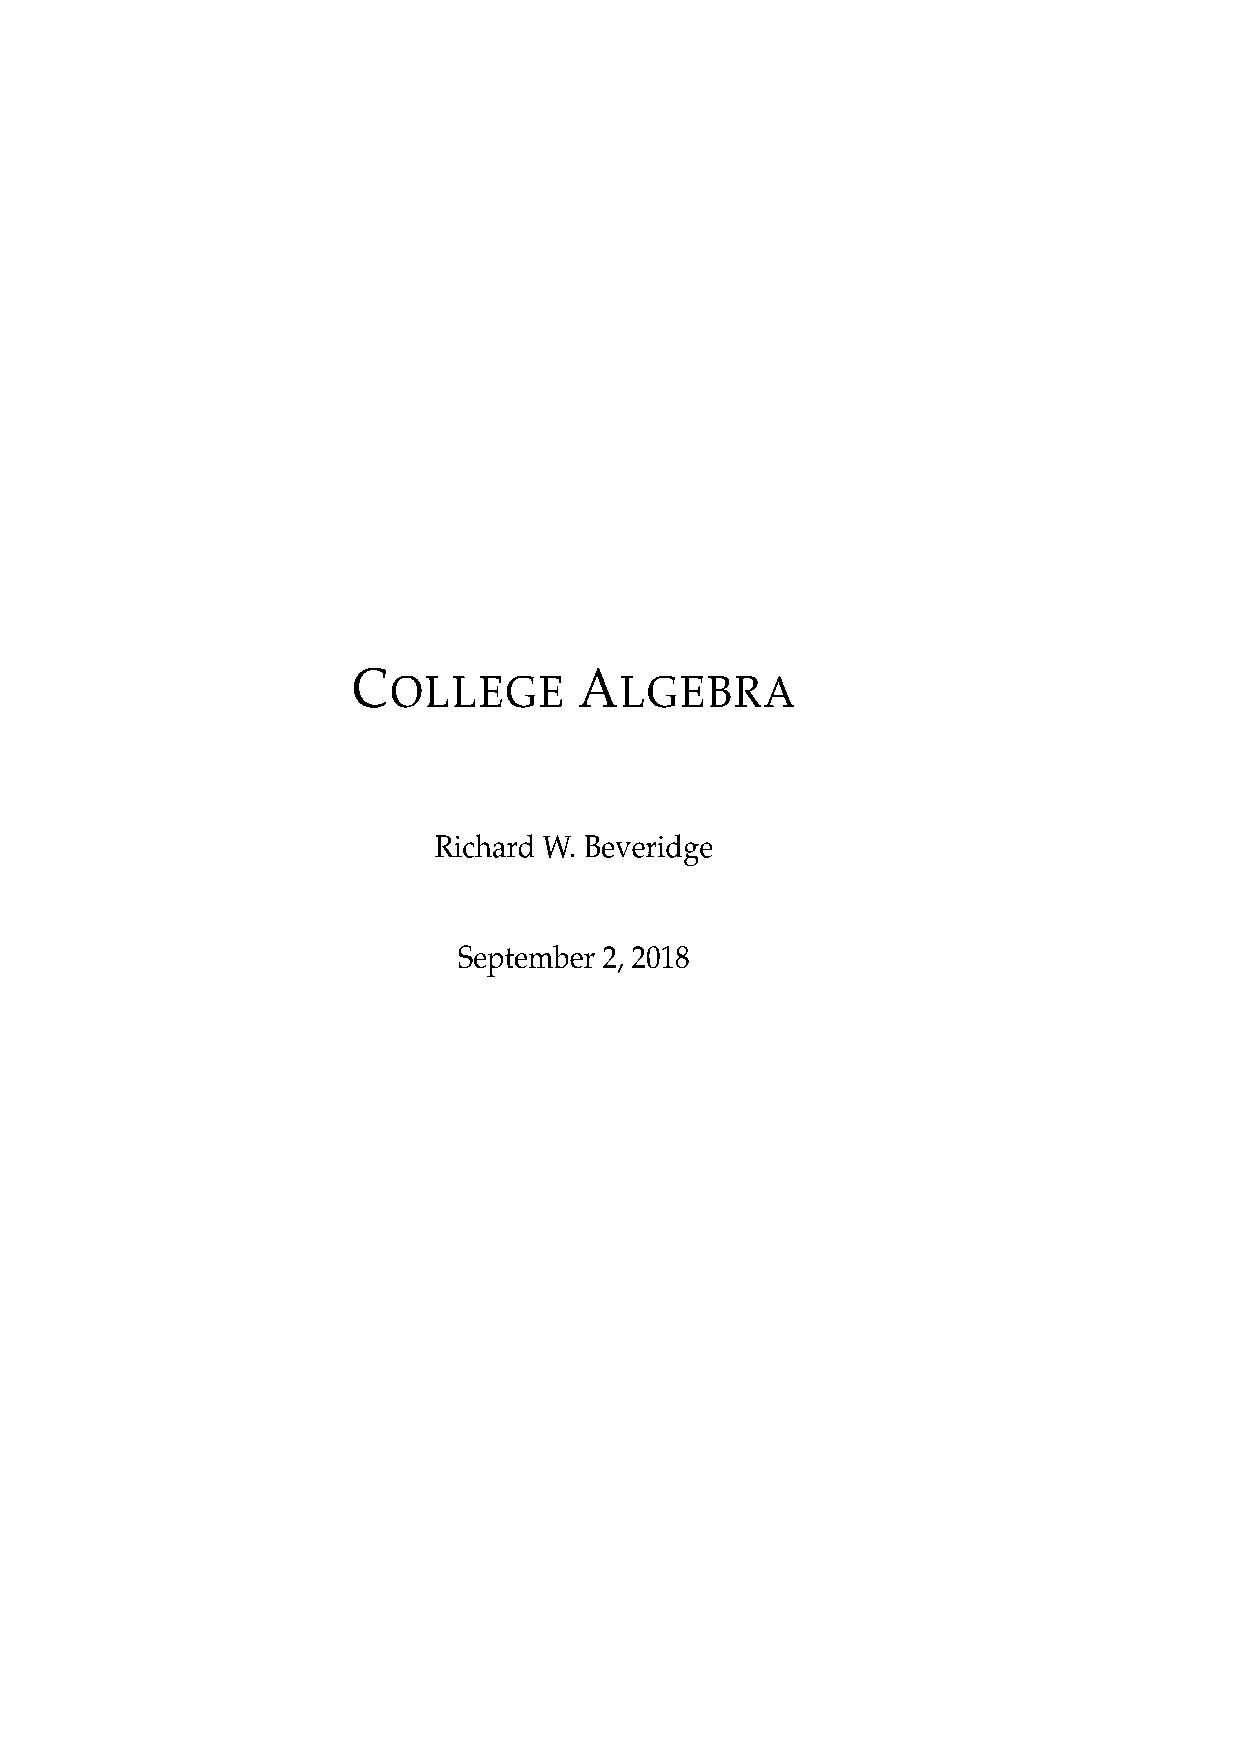author: (429, 831, 715, 868)
title: (352, 663, 794, 713)
